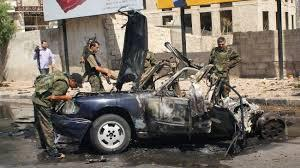doorouter-dent: (149, 95, 191, 133)
front-bumper-dent: (53, 116, 89, 137)
